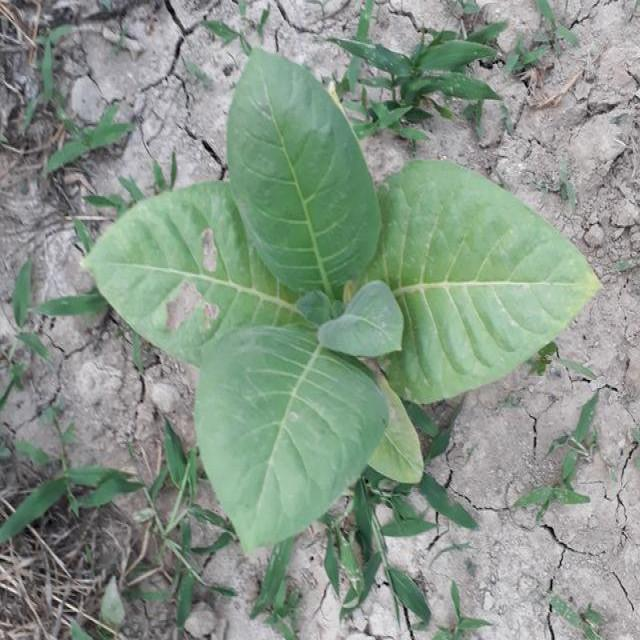crop: (81, 47, 606, 553)
